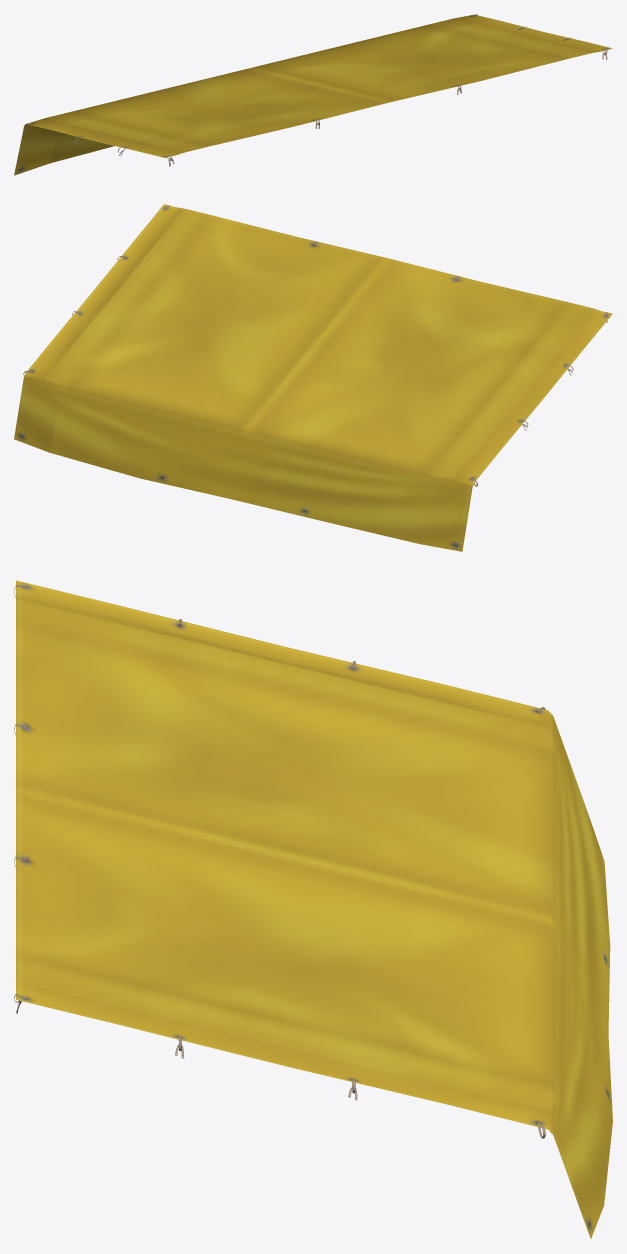
The model's file is jsf_Ceiling_s04_c05_t02.fbx.
3 views of the same model, one above another, from view 1: azimuth 30°, elevation 25°; view 2: azimuth 150°, elevation 25°; view 3: azimuth 270°, elevation 25° (orthographic). The views are drawn at different scales.
Parts seen in each view (by area): view 1: jsf_Ceiling_s04_c05_t02; view 2: jsf_Ceiling_s04_c05_t02; view 3: jsf_Ceiling_s04_c05_t02.
Part boxes in pixels (left/top/right/bottom): jsf_Ceiling_s04_c05_t02: left=14, top=14, right=612, bottom=175; jsf_Ceiling_s04_c05_t02: left=14, top=204, right=612, bottom=551; jsf_Ceiling_s04_c05_t02: left=14, top=580, right=612, bottom=1238.
Bounding box in the file's own units: 394 × 106 × 234.
